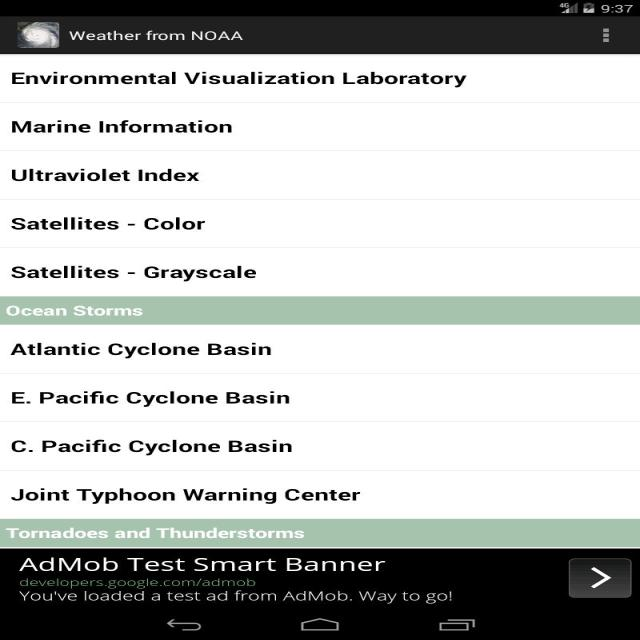button: (594, 23, 621, 48)
heading: (6, 524, 305, 543), (69, 27, 251, 45), (6, 303, 144, 321)
iframe: (1, 548, 639, 610)
image: (15, 20, 60, 50)
text: (7, 69, 471, 90), (9, 486, 361, 504), (8, 388, 292, 408), (8, 340, 275, 361), (10, 438, 293, 456), (8, 116, 237, 138), (10, 263, 258, 282), (8, 165, 207, 188), (8, 215, 207, 235)
